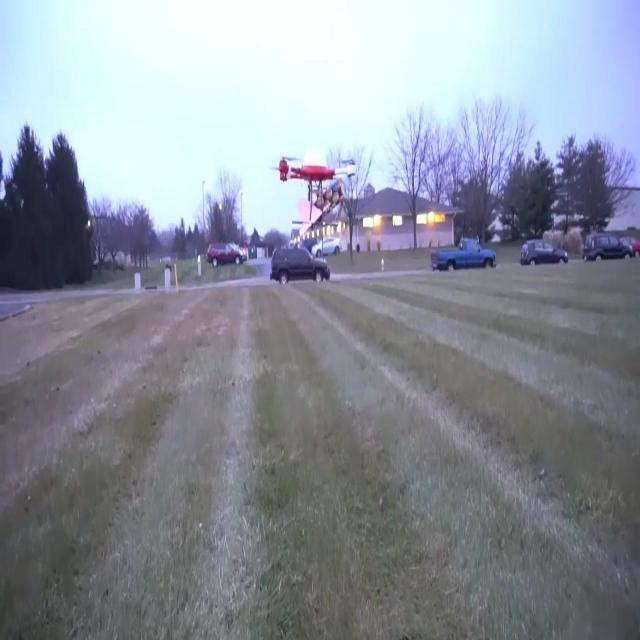UAV: (270, 156, 356, 222)
